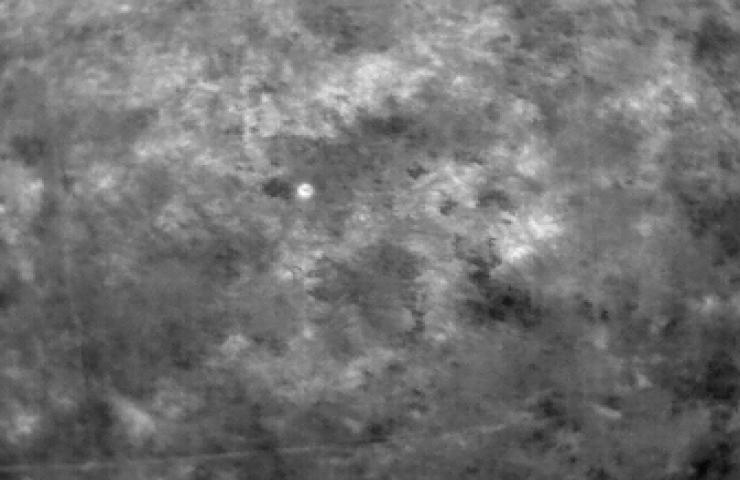landmines: (296, 183, 317, 201)
